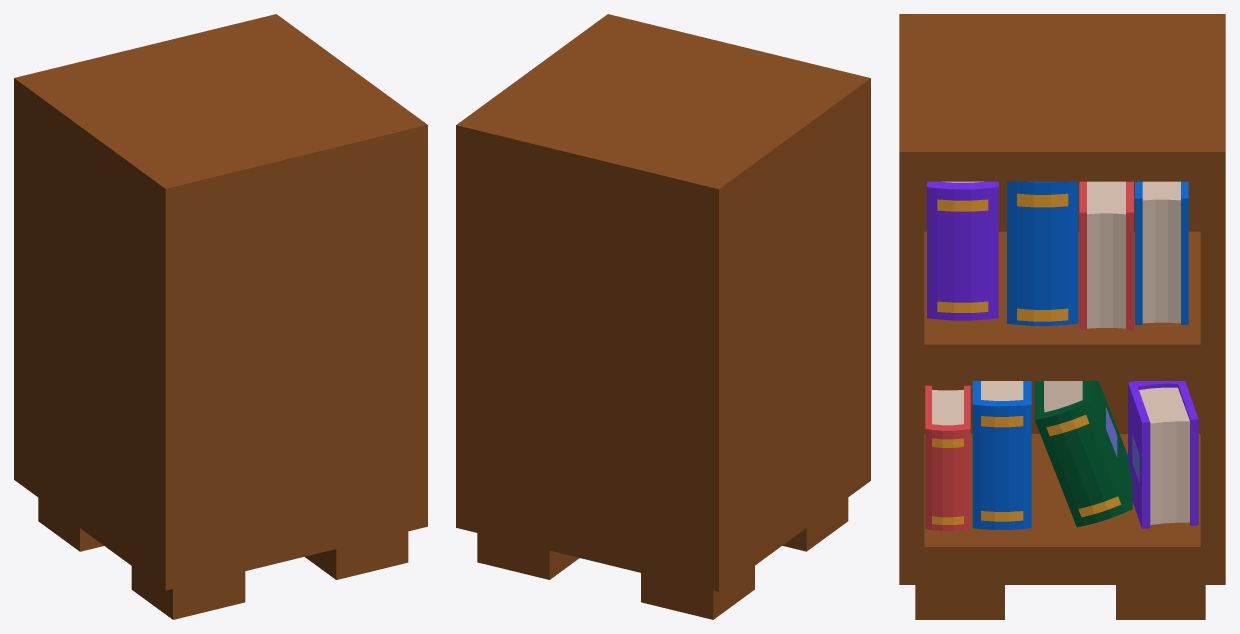
File: librero.fbx
3 views of the same model, side by side, from view 1: azimuth 30°, elevation 25°; view 2: azimuth 150°, elevation 25°; view 3: azimuth 270°, elevation 25° (orthographic). The views are drawn at different scales.
Visible parts, largest first — view 1: librero; view 2: librero; view 3: librero.
Boxes of the visible parts, left/top/right/bottom form: librero: left=14, top=14, right=427, bottom=619; librero: left=456, top=14, right=870, bottom=619; librero: left=899, top=14, right=1225, bottom=619.
Bounding box in the file's own units: 200 × 321 × 200.
